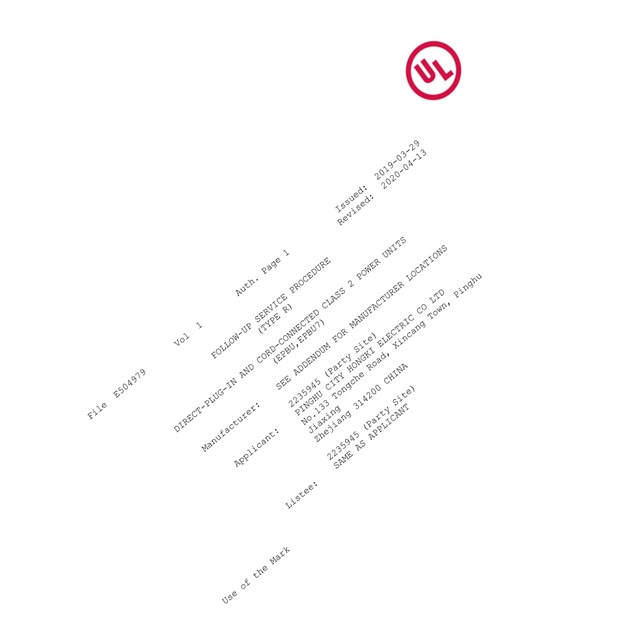ul: (404, 40, 462, 99)
